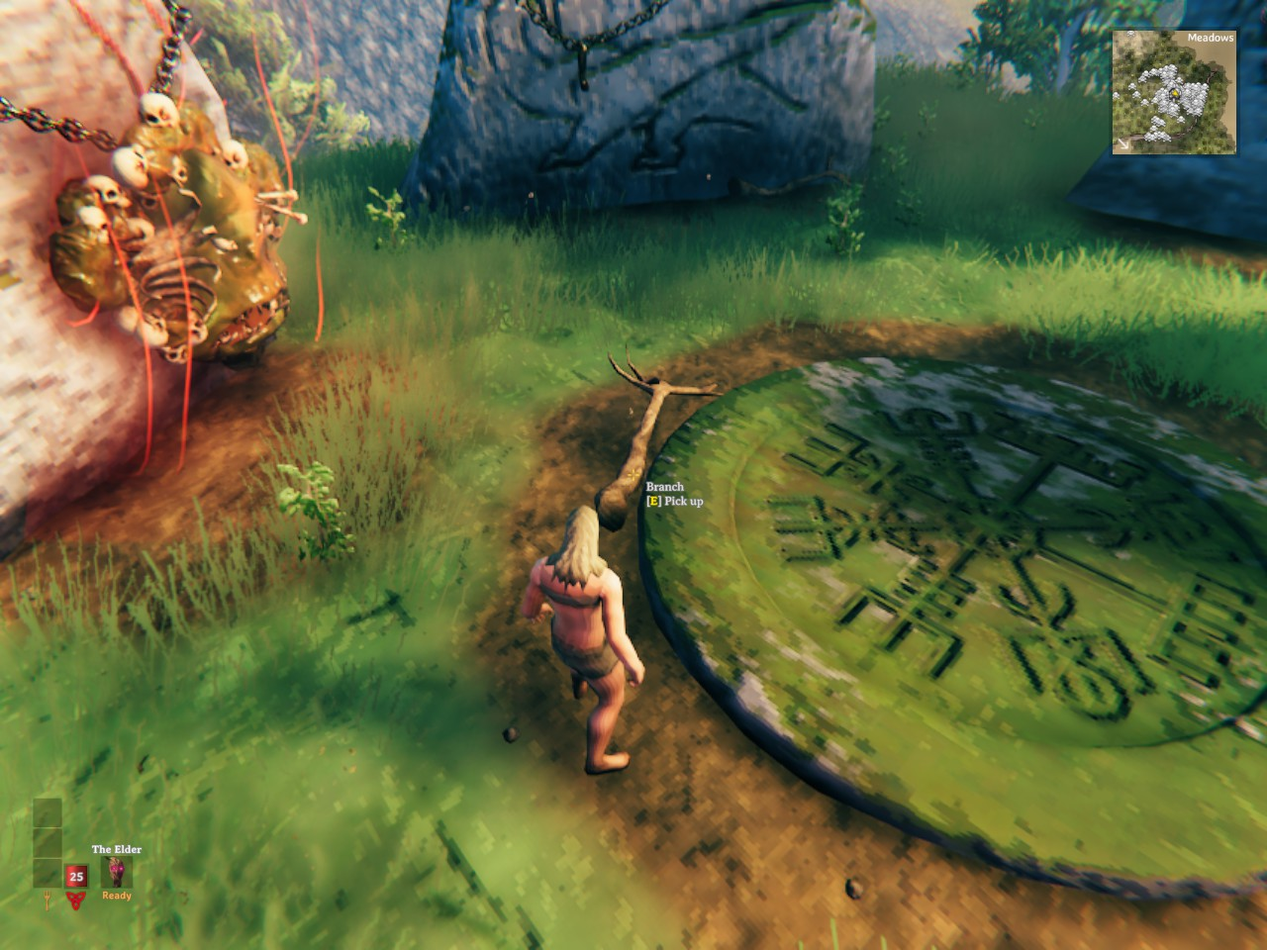Branch: (595, 349, 718, 530)
Health Bar: (65, 864, 87, 888)
